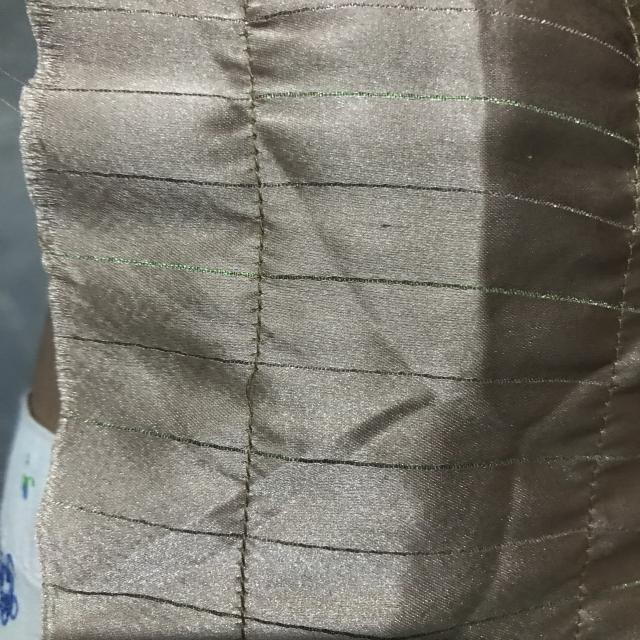good: (230, 133, 277, 257)
skip: (227, 358, 269, 423)
